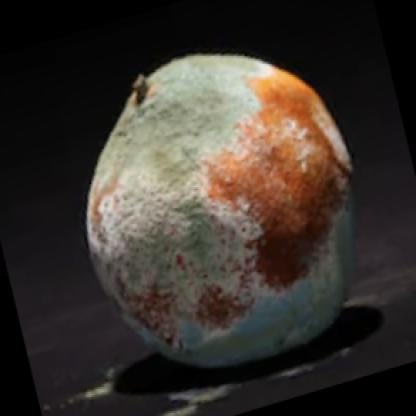rotten: (85, 51, 356, 372)
